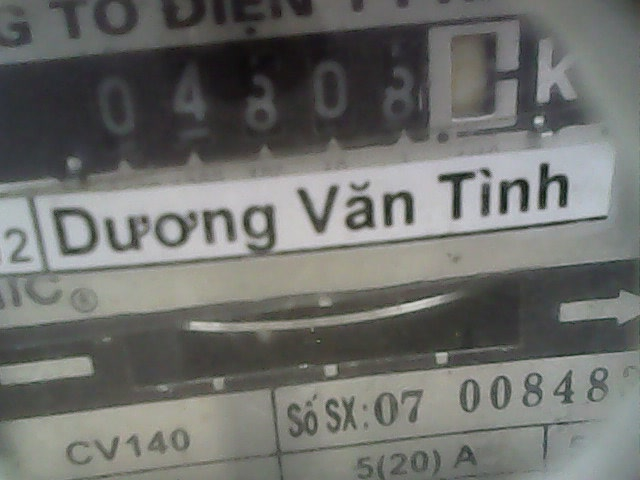phy_plate: (85, 16, 533, 162)
